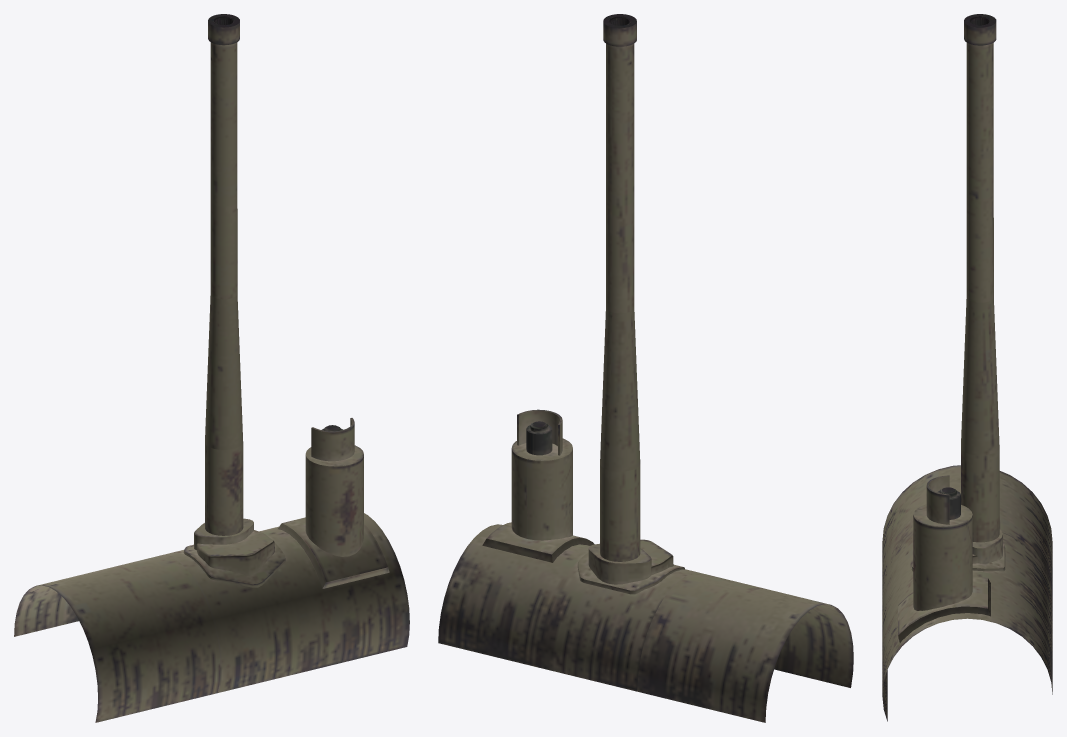
The model's file is Gun_02.glb.
3 views of the same model, side by side, from view 1: azimuth 30°, elevation 25°; view 2: azimuth 150°, elevation 25°; view 3: azimuth 270°, elevation 25° (orthographic). The views are drawn at different scales.
Parts seen in each view (by area): view 1: set_0_group_0; view 2: set_0_group_0; view 3: set_0_group_0.
Part boxes in pixels (x1,y1,x2,y2): set_0_group_0: (14, 14, 409, 722); set_0_group_0: (438, 14, 853, 722); set_0_group_0: (882, 14, 1052, 721).
Bounding box in the file's own units: 0.8801 × 1.69 × 0.4109.
Materials: 1 (1 with a texture image).
